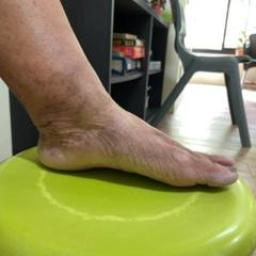Medial View -Left Foot-: (8, 48, 248, 212)
